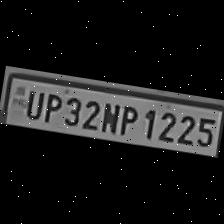1: (135, 104, 159, 140)
2: (154, 107, 180, 144), (78, 94, 103, 131), (172, 109, 196, 146)
3: (60, 91, 85, 128)
5: (192, 112, 218, 148)
N: (98, 98, 120, 135)
P: (114, 100, 140, 139), (41, 88, 64, 124)
U: (20, 86, 44, 119)
